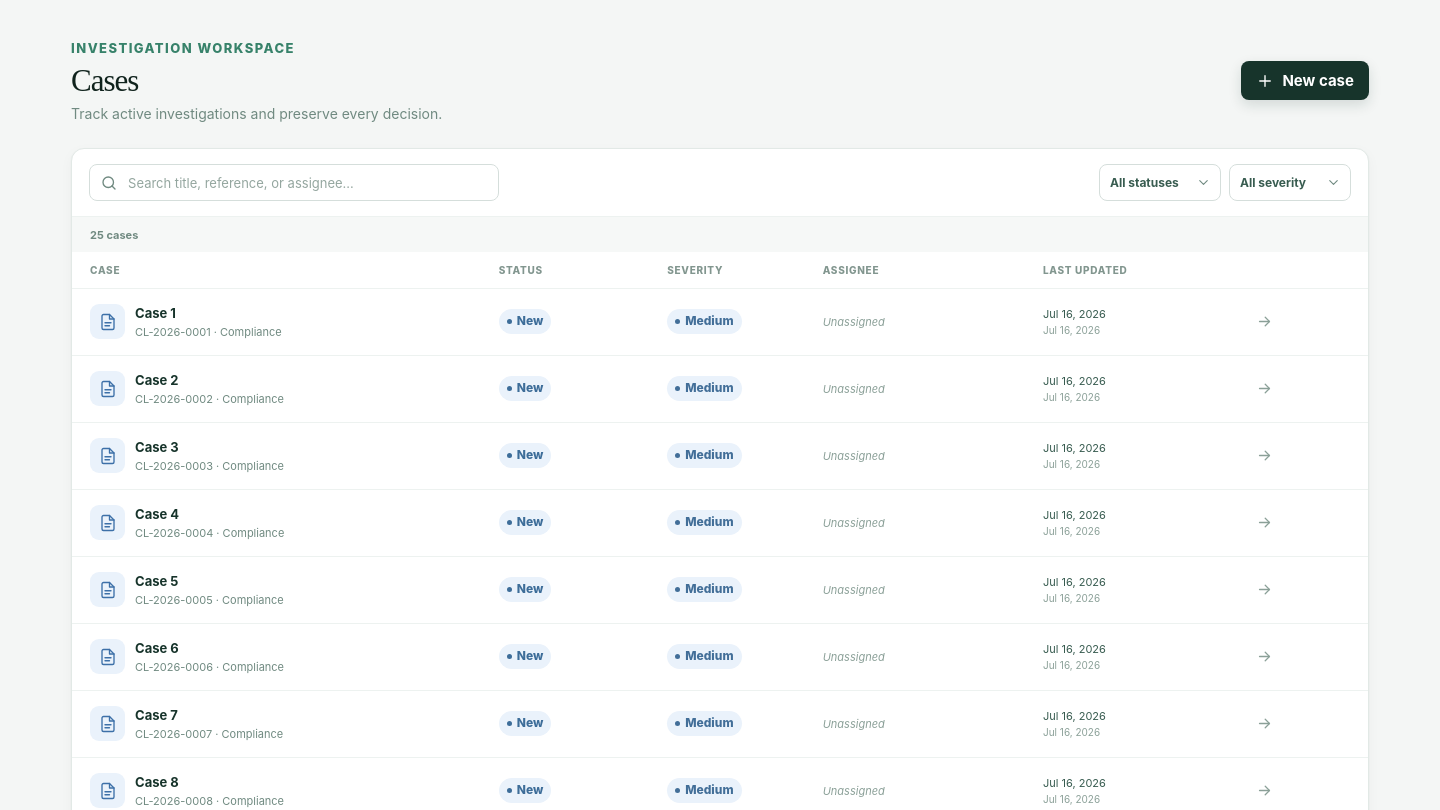
Scenario: CasesPage pagination › keeps debounced search and clear-search behavior on the first page
Type "anomaly" into the field named "Search cases" at coordinates (307, 183), box [126,174,488,192]
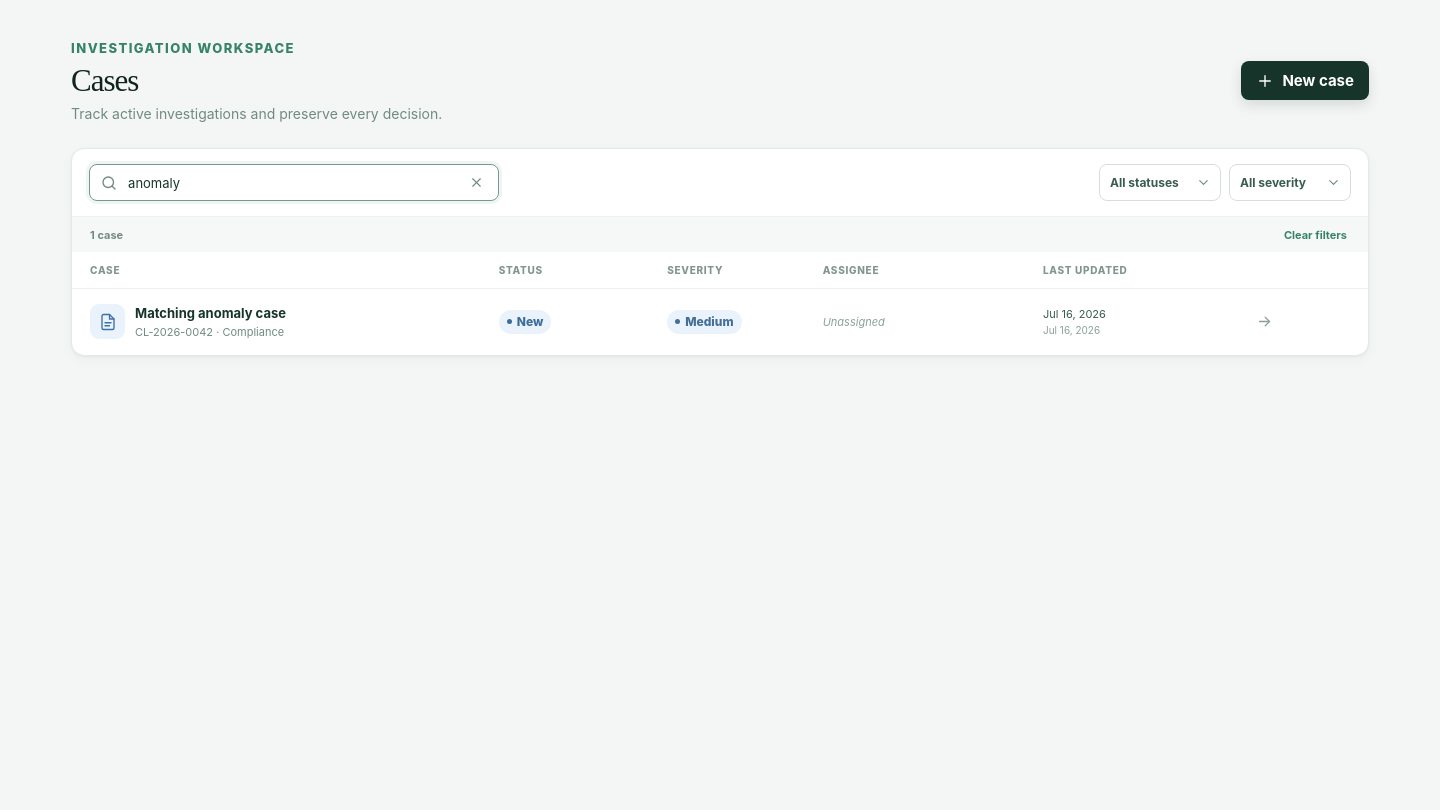
Expected: the text "Matching anomaly case" is shown 2 times
Click the button named "Clear search" at coordinates (476, 183), box [464,171,488,195]
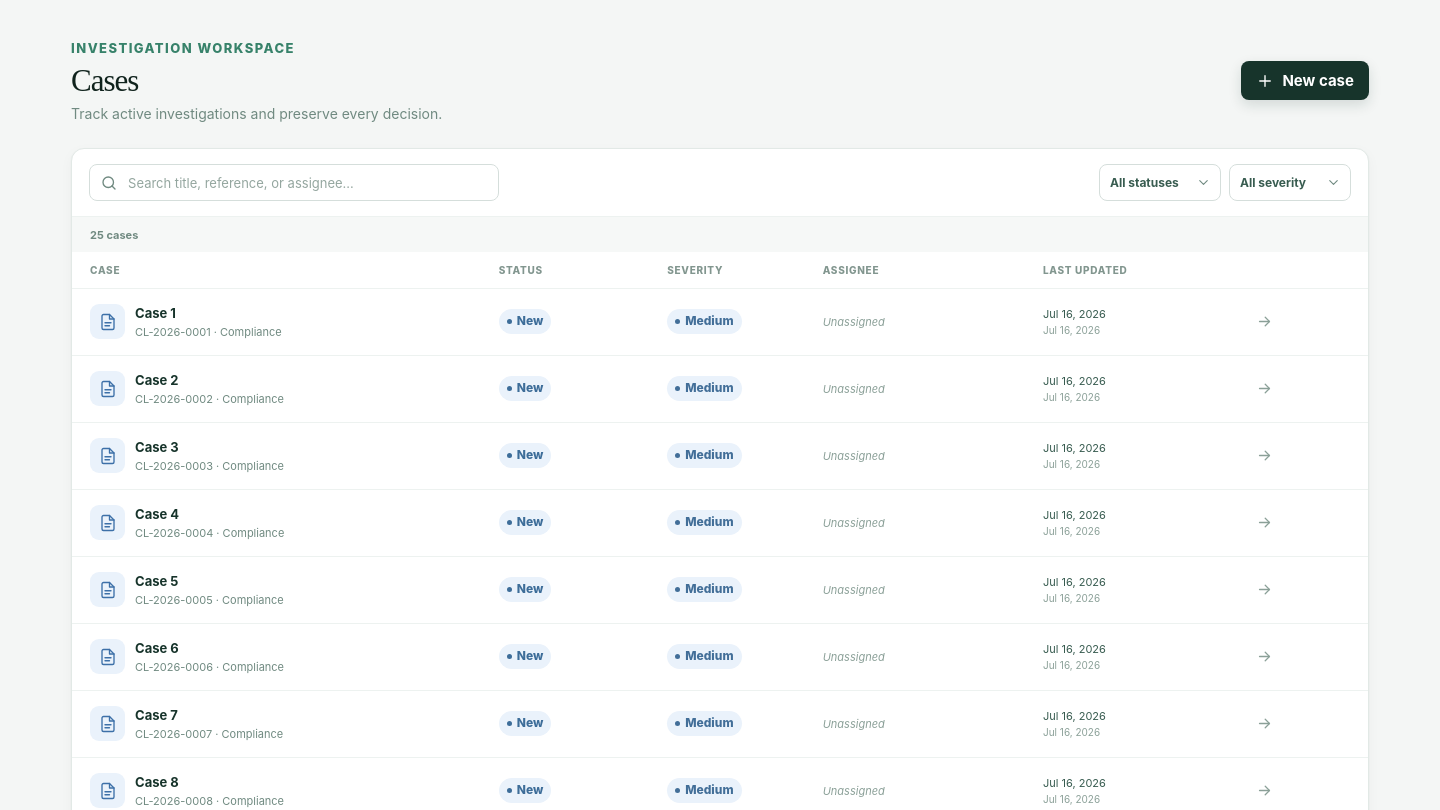
Expected: the text "Case 1" is shown 2 times
Expected: the field named "Search cases" is empty, [126,174,488,192]
